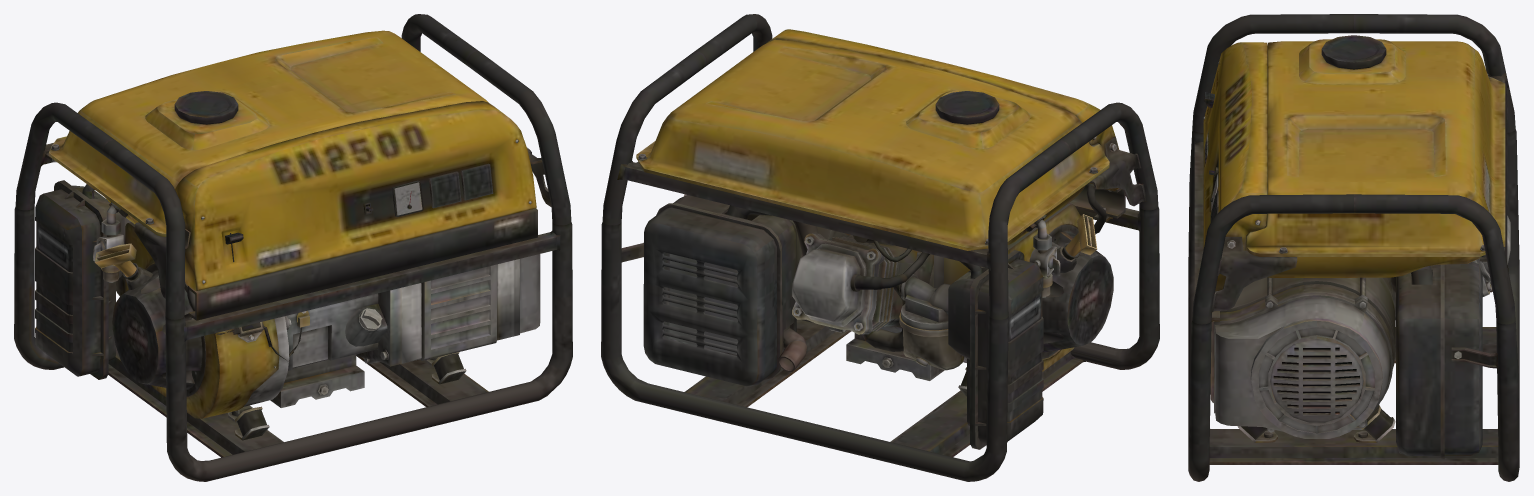
File: portable_generator.glb
3 views of the same model, side by side, from view 1: azimuth 30°, elevation 25°; view 2: azimuth 150°, elevation 25°; view 3: azimuth 270°, elevation 25° (orthographic).
Visible parts, largest first — view 1: portable_generator; view 2: portable_generator; view 3: portable_generator.
Boxes of the visible parts, x1,y1,x2,y2 form: portable_generator: (14,14,572,481); portable_generator: (601,14,1159,481); portable_generator: (1188,14,1519,481).
Bounding box in the file's own units: 0.8169 × 0.5752 × 0.564.
Materials: 2 (2 with a texture image).
